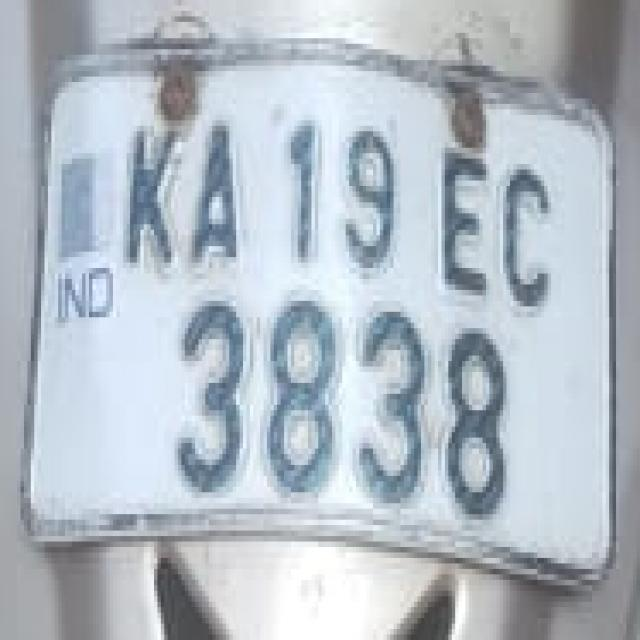1: (284, 108, 322, 271)
3: (349, 294, 429, 512), (176, 289, 251, 504)
8: (265, 286, 341, 504), (443, 318, 508, 526)
9: (337, 116, 399, 284)
A: (187, 110, 249, 286)
C: (500, 140, 560, 316)
E: (434, 128, 494, 308)
K: (122, 106, 184, 284)
